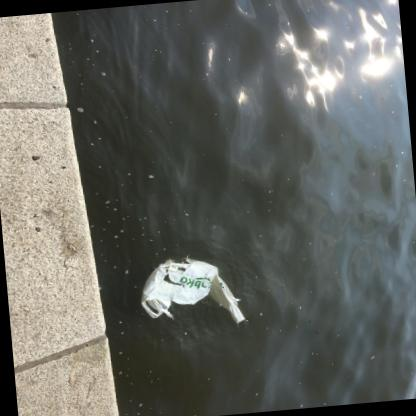Plastic: (140, 254, 244, 324)
